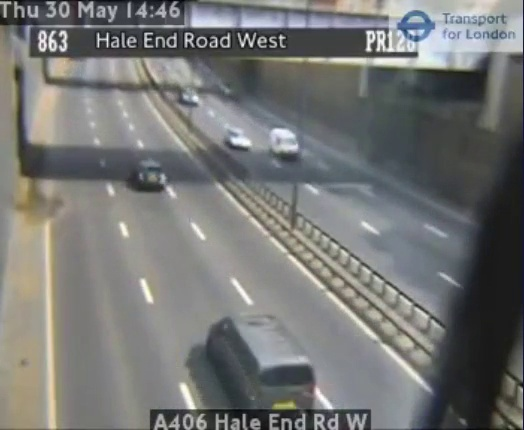car: (135, 160, 167, 188)
van: (210, 315, 316, 408)
